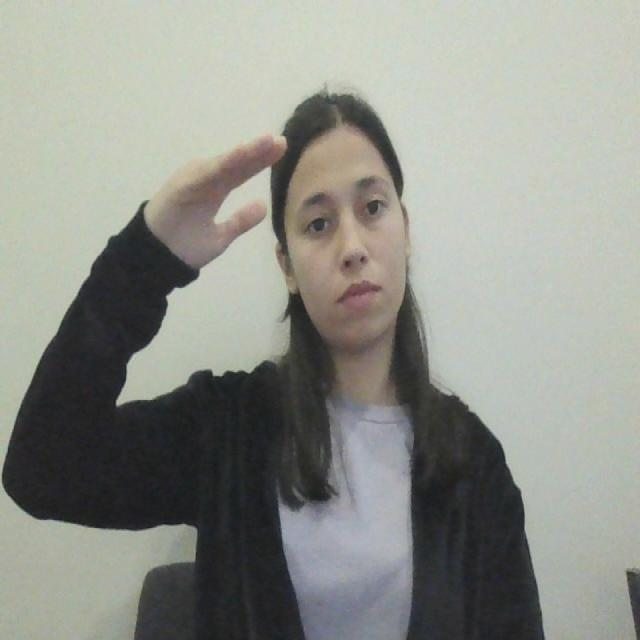Merhaba: (150, 121, 313, 351)
